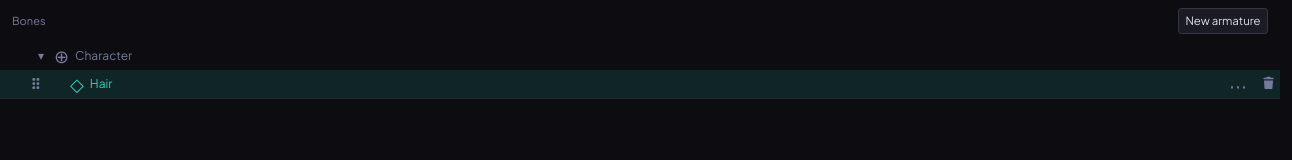
Test: bone layer rename interaction › discards stale bone drafts when history or the active document changes
Double-click the list item "◇ Hair ⋯" at [640, 84], box [0, 70, 1280, 98]
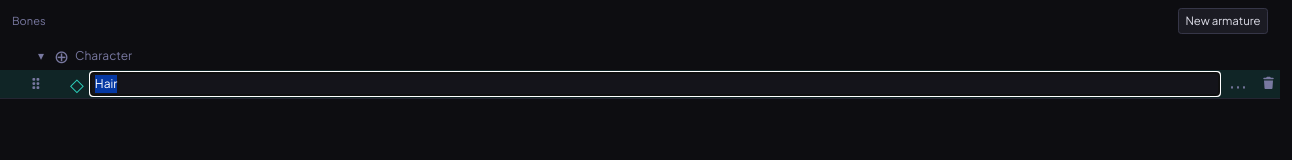
Replace the text in the field named "Rename Hair" with "Old revision" at [655, 84], box [90, 72, 1220, 96]
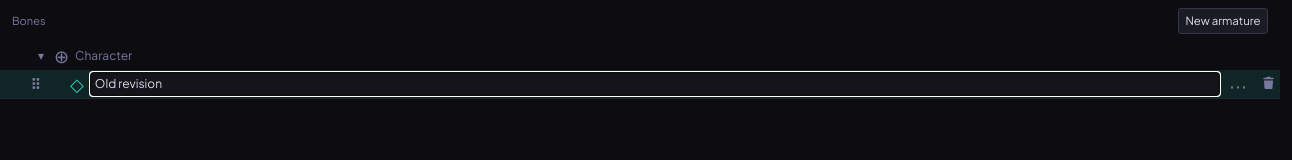
Press Enter in the field named "Rename Hair", box [90, 72, 1220, 96]
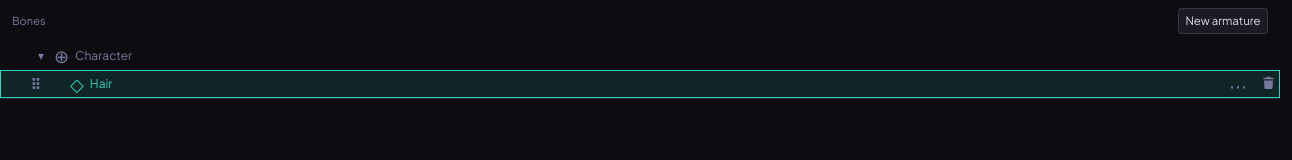
Double-click the list item "◇ Hair ⋯" at [640, 84], box [0, 70, 1280, 98]
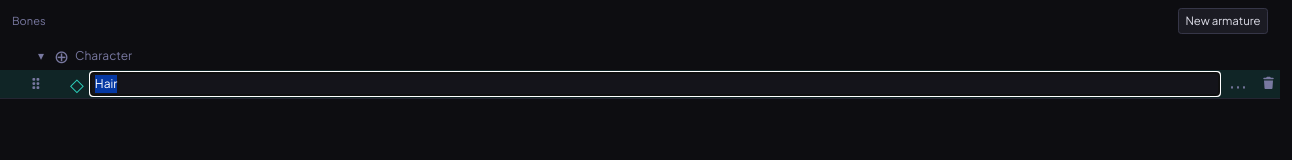
Replace the text in the field named "Rename Hair" with "Old document" at [655, 84], box [90, 72, 1220, 96]
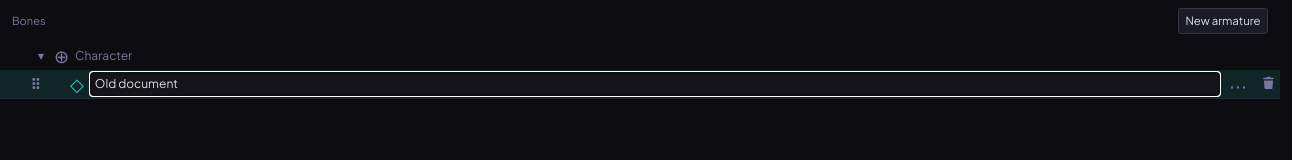
Leave the field named "Rename Hair", box [90, 72, 1220, 96]
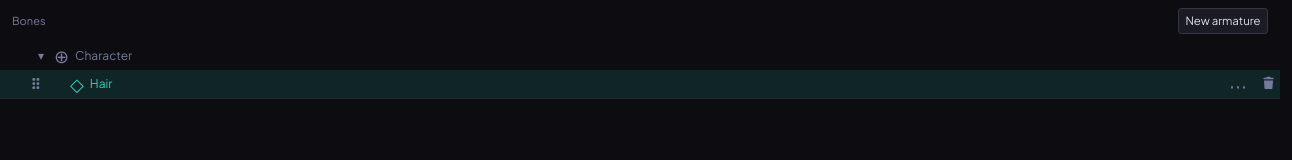
Check: the field is gone
